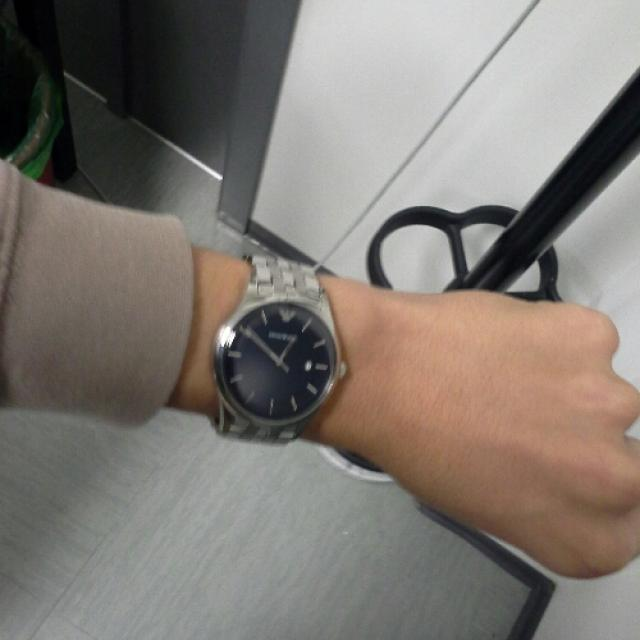rock: (435, 287, 640, 578)
